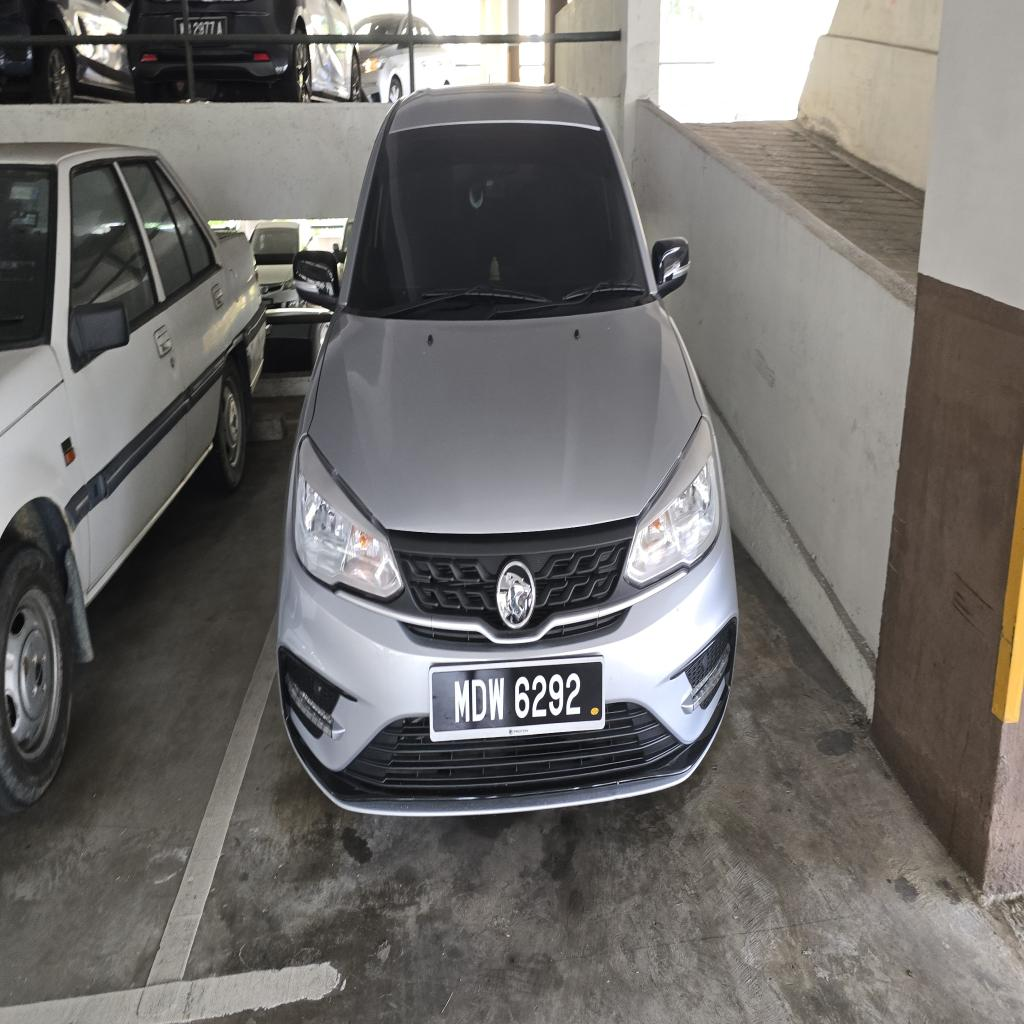car: (278, 86, 737, 814)
car plate: (430, 658, 604, 740)
